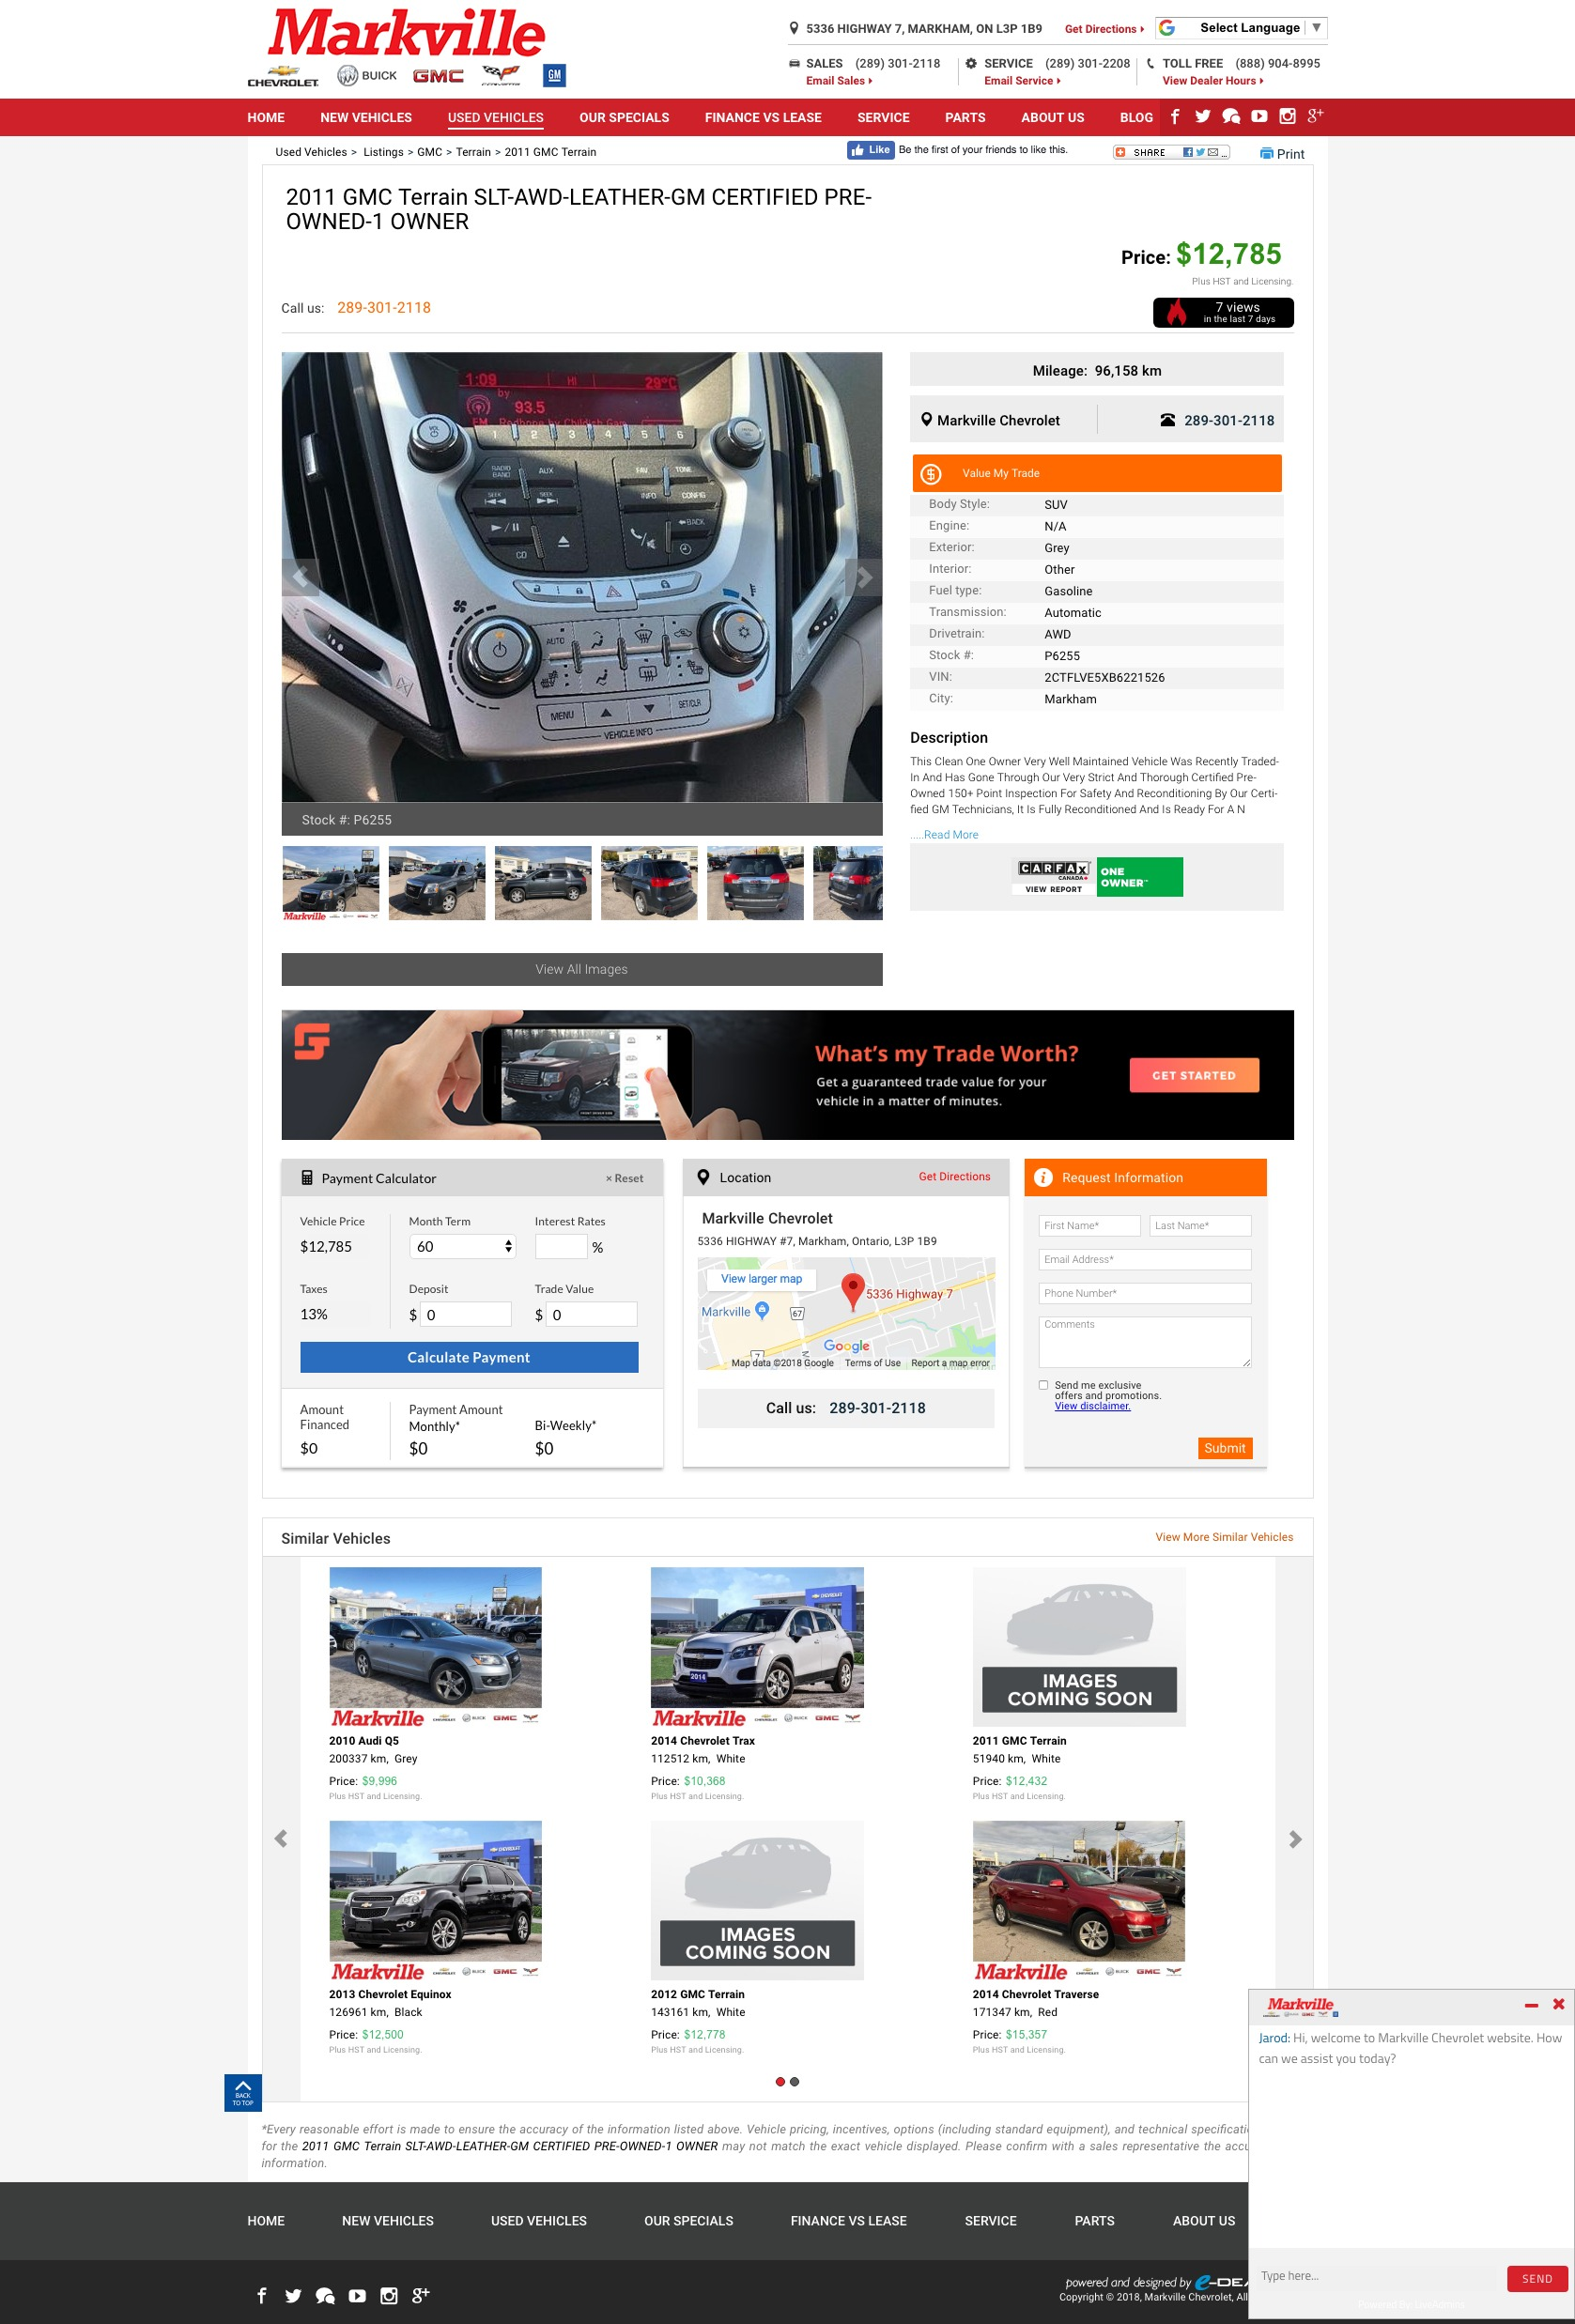car: (844, 559, 884, 599)
